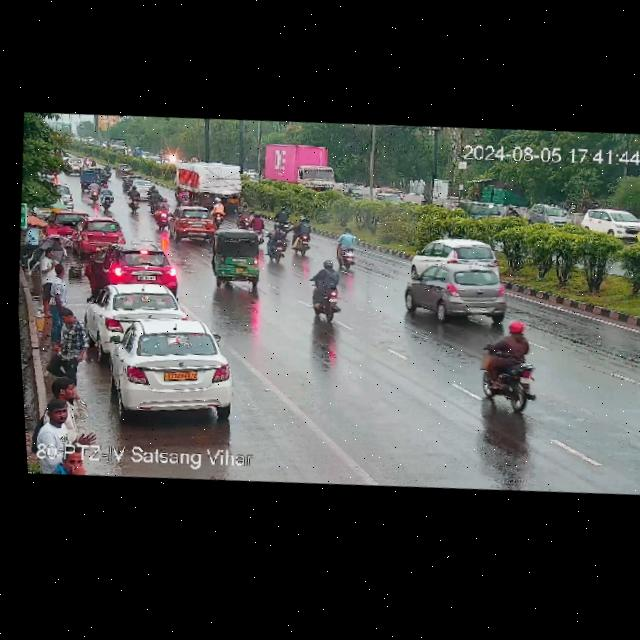car: (102, 310, 240, 423), (397, 254, 513, 326), (84, 276, 185, 346), (92, 239, 181, 288), (204, 224, 268, 289), (407, 231, 505, 272), (70, 215, 125, 255), (580, 206, 640, 242), (169, 204, 218, 244), (453, 195, 505, 230), (528, 200, 576, 233), (131, 178, 156, 196), (63, 156, 85, 175), (116, 163, 134, 179)
motorcycle: (472, 319, 546, 414), (301, 256, 348, 323), (332, 225, 367, 270), (260, 223, 285, 265), (291, 216, 313, 257), (122, 184, 144, 213), (271, 207, 293, 236), (79, 165, 105, 188), (152, 198, 170, 231), (210, 197, 229, 226), (98, 183, 117, 211), (235, 200, 252, 228), (251, 212, 267, 241), (89, 178, 100, 203)
person: (34, 376, 96, 473), (47, 303, 91, 385), (31, 244, 61, 332), (45, 259, 74, 320)
truck: (255, 138, 342, 197), (178, 158, 248, 205), (105, 133, 127, 154)
